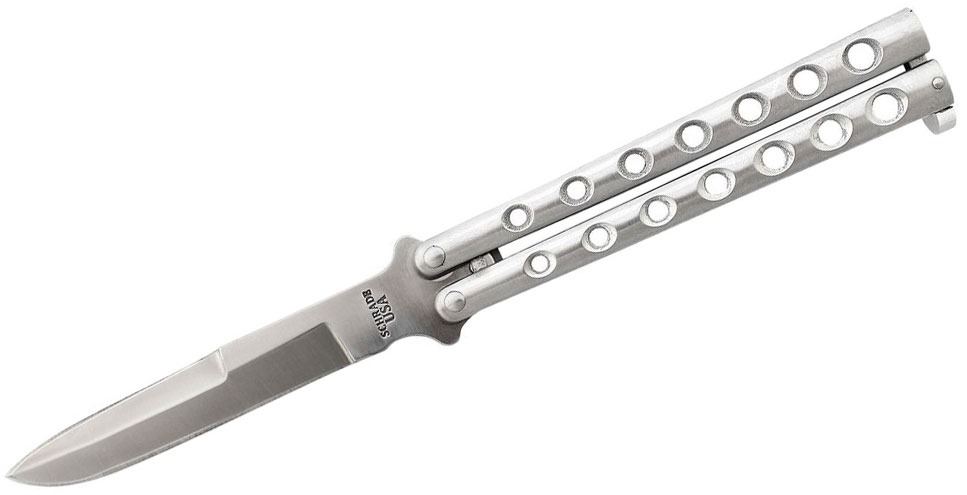knife: (5, 3, 960, 494)
